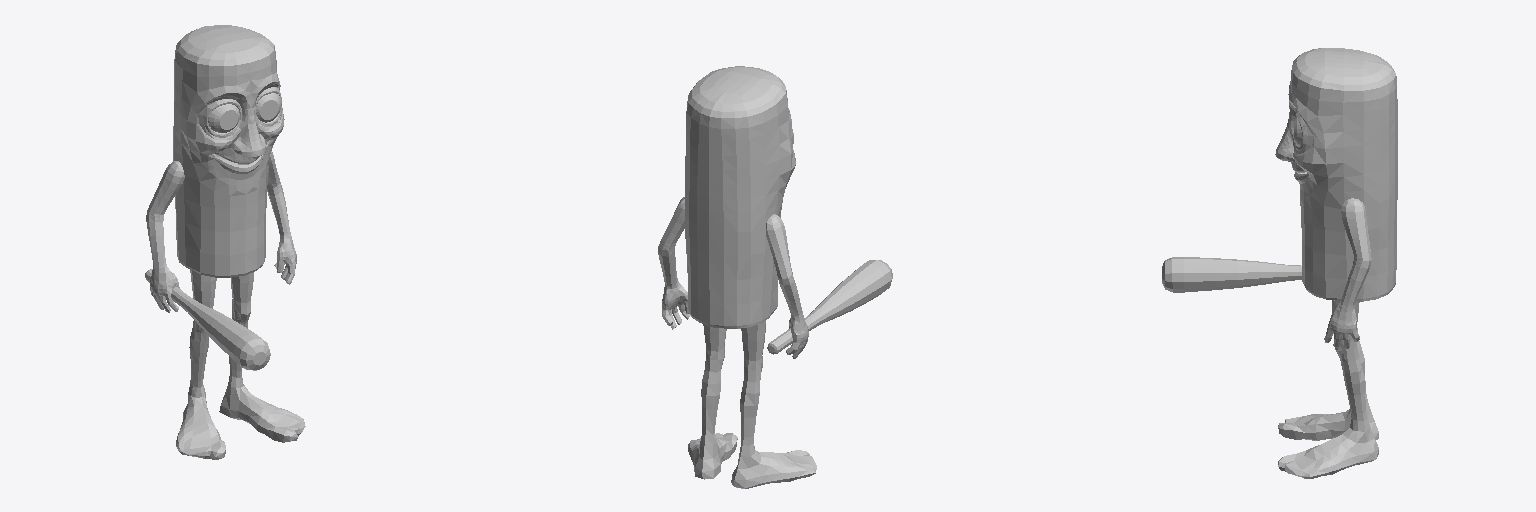
Rendered from tung.obj.
3 renders of one model, left to right at view 1: azimuth 30°, elevation 25°; view 2: azimuth 150°, elevation 25°; view 3: azimuth 270°, elevation 25°, orthographic.
Visible parts, largest first — view 1: Foot_LP_Plane_001_Sahur_0; view 2: Foot_LP_Plane_001_Sahur_0; view 3: Foot_LP_Plane_001_Sahur_0.
Part boxes in pixels (left/top/right/bottom): Foot_LP_Plane_001_Sahur_0: left=145, top=25, right=305, bottom=459; Foot_LP_Plane_001_Sahur_0: left=658, top=66, right=892, bottom=488; Foot_LP_Plane_001_Sahur_0: left=1162, top=48, right=1397, bottom=478.
Size of the model in its own units: 0.0068 by 0.0181 by 0.0098.